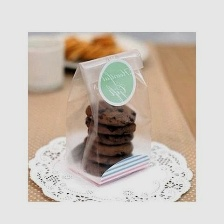snack: (58, 43, 160, 190)
